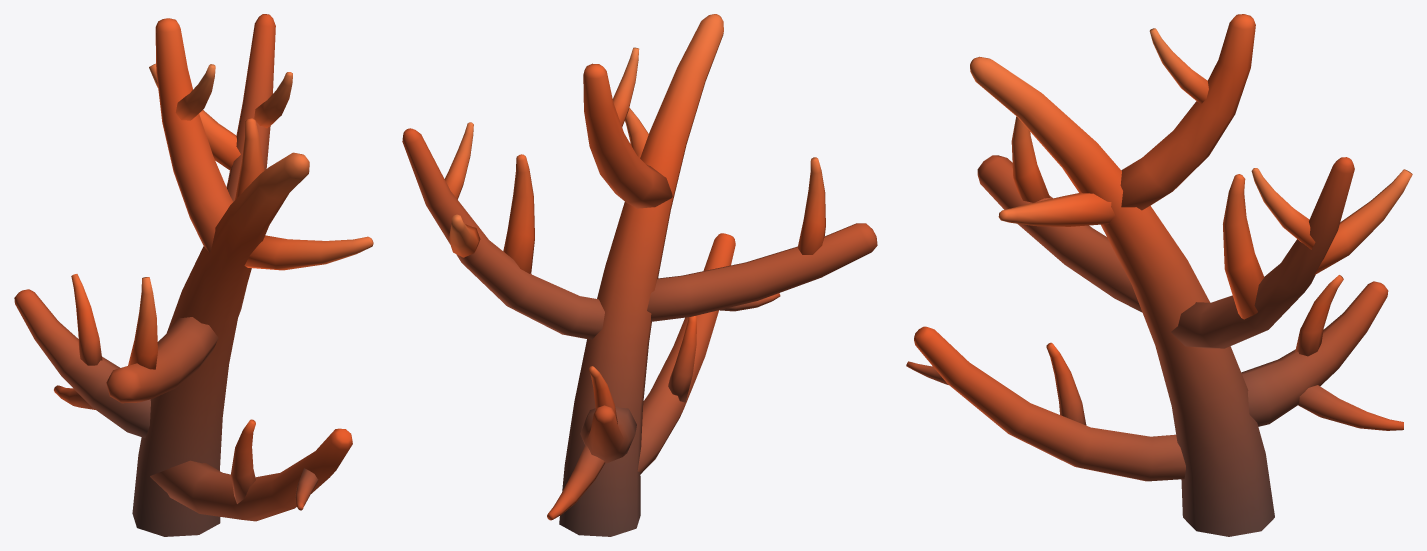
File: Coral_02.fbx
3 views of the same model, side by side, from view 1: azimuth 30°, elevation 25°; view 2: azimuth 150°, elevation 25°; view 3: azimuth 270°, elevation 25° (orthographic). The views are drawn at different scales.
Visible parts, largest first — view 1: Coral_02; view 2: Coral_02; view 3: Coral_02.
Part boxes in pixels (bbox=[...]): Coral_02: bbox=[14, 14, 373, 536]; Coral_02: bbox=[402, 14, 877, 536]; Coral_02: bbox=[906, 14, 1412, 536].
Bounding box in the file's own units: 69.19 × 96.92 × 88.73.
